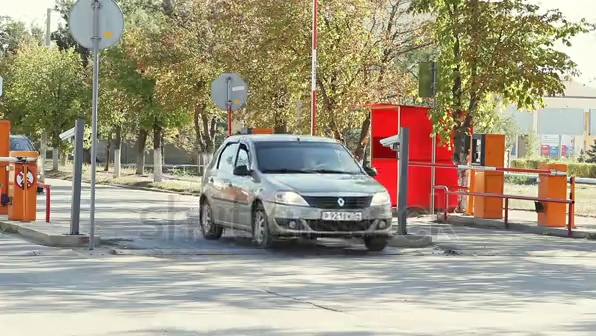licenseplate: (326, 209, 361, 222)
